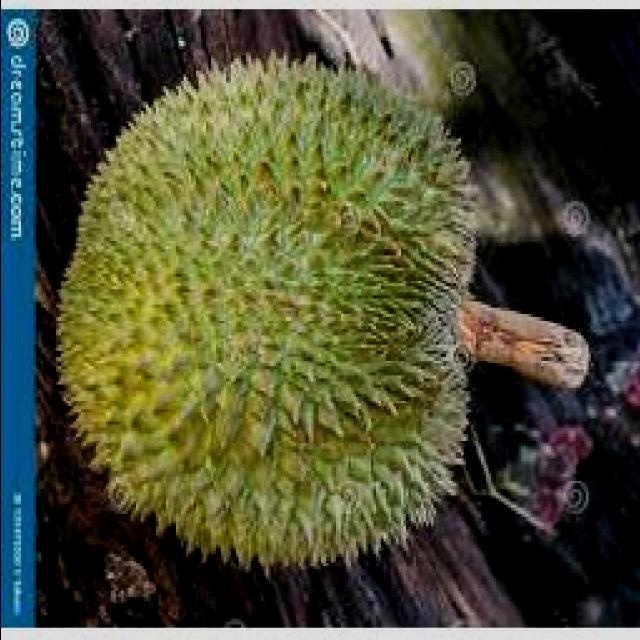agrume: (49, 53, 588, 575)
